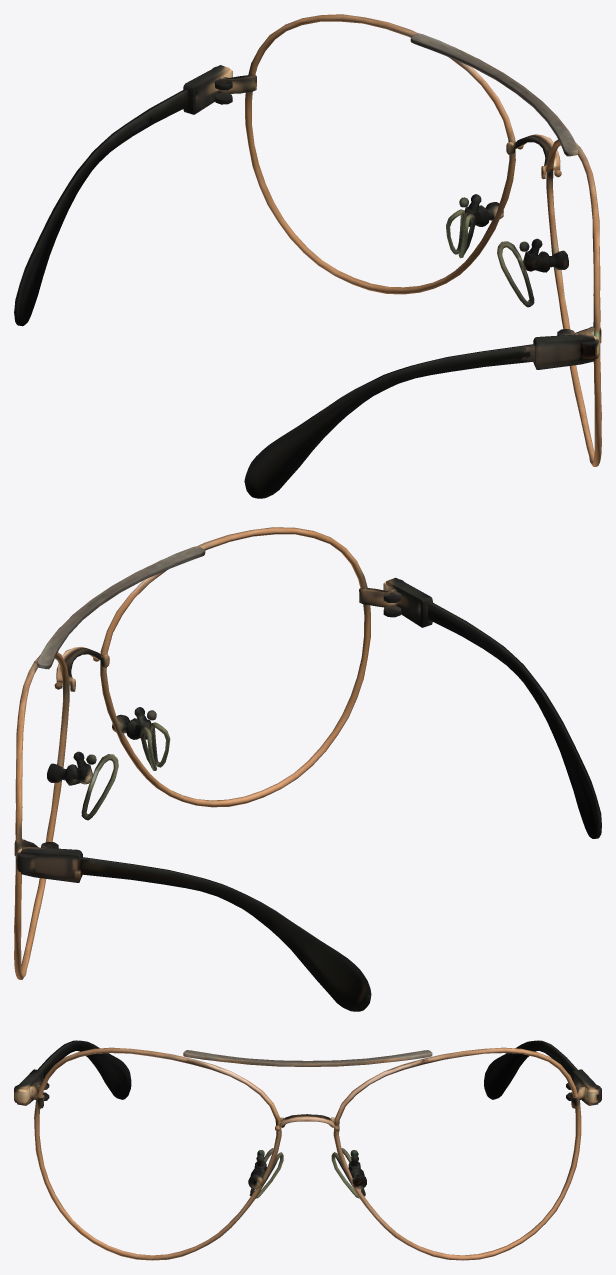
Rendered from oculos_aviador_dourado.glb.
The picture shows the model from 3 angles, top to bottom: view 1: azimuth 30°, elevation 25°; view 2: azimuth 150°, elevation 25°; view 3: azimuth 270°, elevation 25°; orthographic projection. The views are drawn at different scales.
Parts seen in each view (by area): view 1: oculos_aviador_dourado; view 2: oculos_aviador_dourado; view 3: oculos_aviador_dourado.
Boxes of the visible parts, left/top/right/bottom form: oculos_aviador_dourado: left=14, top=14, right=601, bottom=498; oculos_aviador_dourado: left=14, top=527, right=601, bottom=1011; oculos_aviador_dourado: left=14, top=1040, right=601, bottom=1260.
Bounding box in the file's own units: 0.3027 × 0.1885 × 0.4717.
Materials: 1 (1 with a texture image).
